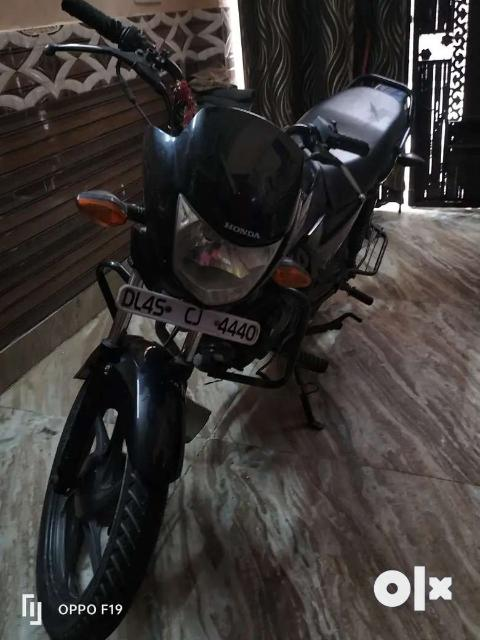Indian_Number_Plate: (118, 283, 260, 345)
